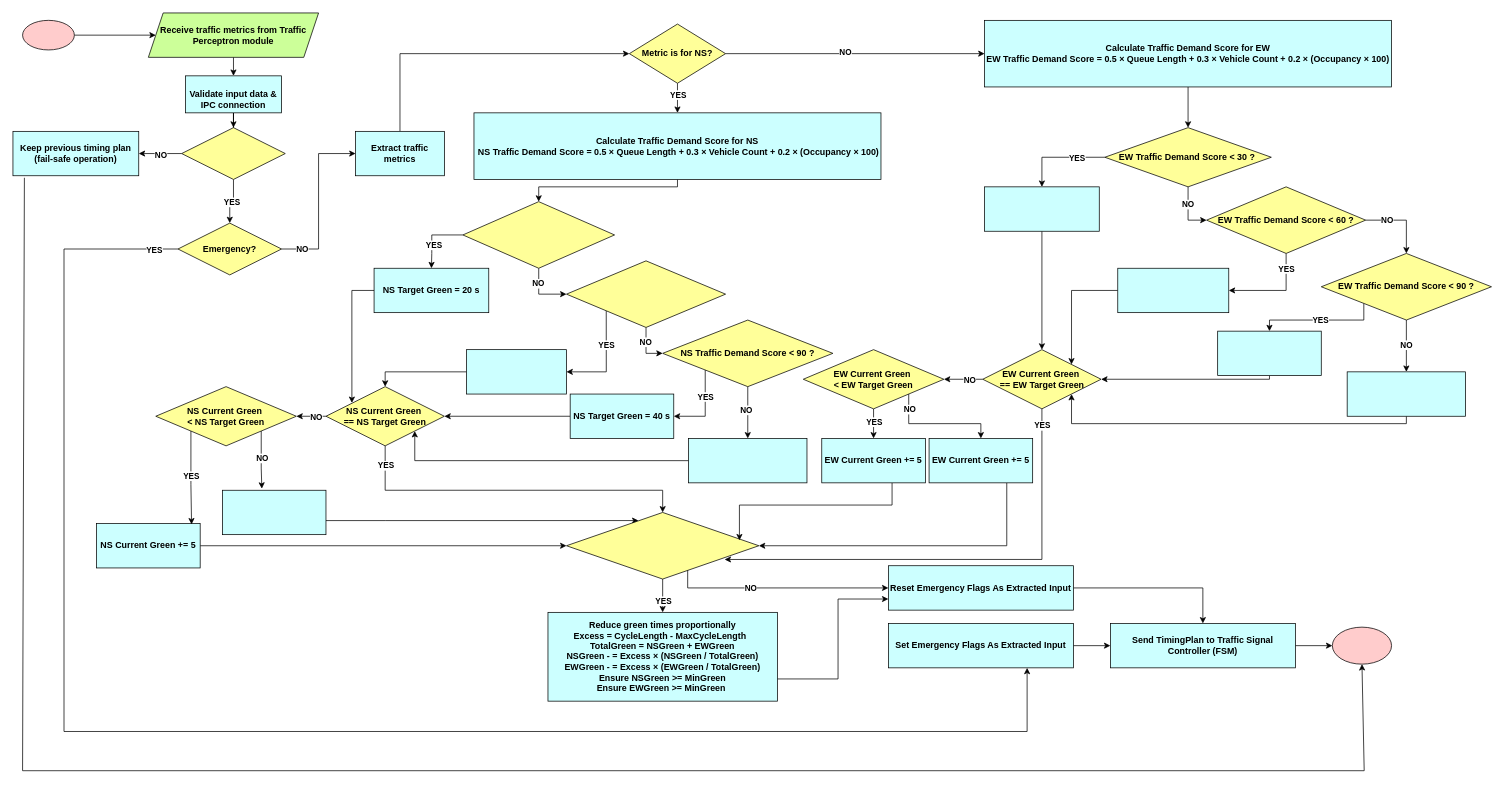
Some shapes in this 1504 by 790 pixel diagram are drawn without their labels. The shapes that lost their labels are listed below. From the top down, each one's centre as x and y in pixels, then its label:
At (48,35): "Start".
At (233,153): "Valid input ?".
At (1041,208): "EW Target Green = 20 s".
At (538,234): "NS Traffic Demand Score < 30 ?".
At (646,293): "NS Traffic Demand Score < 60 ?".
At (1173,290): "EW Target Green = 30 s".
At (516,371): "NS Target Green = 30 s".
At (1269,353): "EW Target Green = 40 s".
At (1406,393): "EW Target Green = 55s".
At (747,460): "NS Target Green = 55s".
At (274,512): "NS Current Green - = 5".
At (662,545): "Total cycle length > Max cycle length ?".
At (1362,645): "End".
